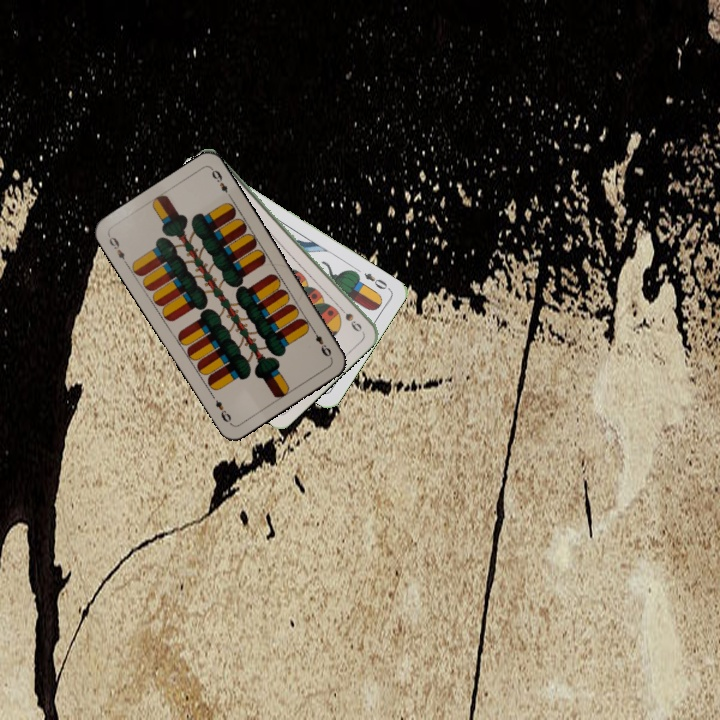E9: (104, 231, 131, 268), (308, 324, 334, 361)
EO: (360, 269, 393, 293)
S9: (334, 301, 364, 334)
